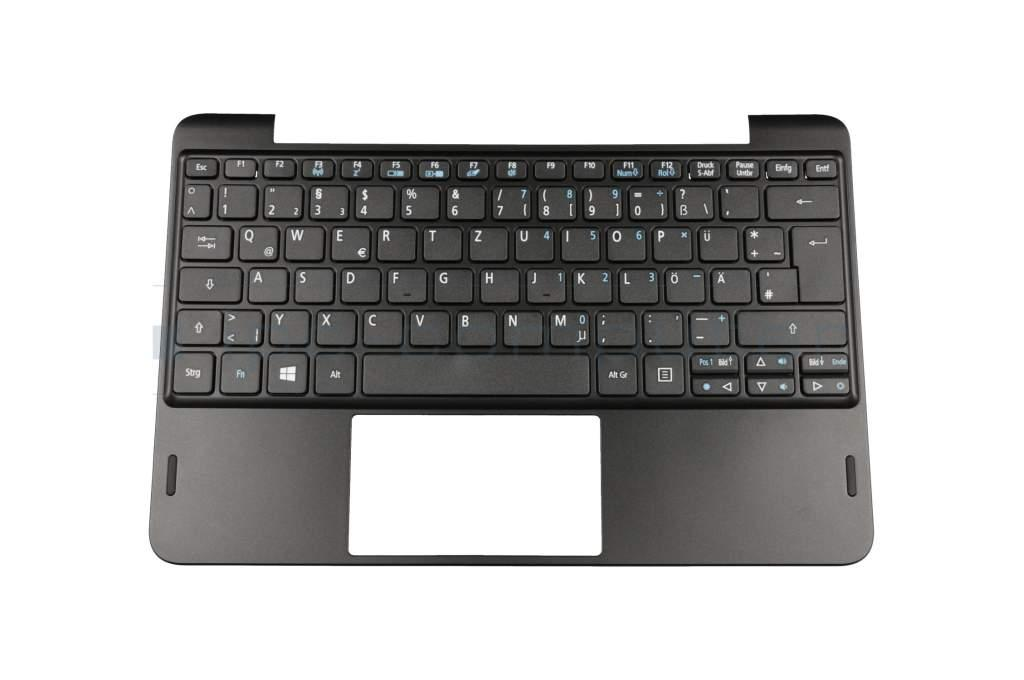0: (627, 186, 668, 220)
1: (215, 184, 257, 219)
2: (262, 184, 303, 219)
3: (307, 184, 349, 220)
4: (354, 184, 394, 221)
5: (399, 185, 440, 221)
6: (445, 185, 485, 220)
7: (490, 185, 531, 220)
8: (536, 186, 576, 220)
9: (581, 185, 622, 220)
a: (246, 266, 288, 304)
accent: (717, 184, 760, 220)
ae: (708, 267, 752, 304)
alt-left: (314, 351, 356, 395)
altgr-right: (596, 352, 638, 396)
b: (455, 310, 496, 347)
c: (361, 309, 403, 346)
caret: (180, 183, 212, 220)
comma: (594, 310, 637, 348)
d: (339, 266, 380, 304)
del: (763, 185, 840, 219)
e: (330, 225, 371, 262)
enter: (792, 226, 844, 303)
f: (386, 267, 427, 304)
g: (432, 267, 473, 303)
h: (478, 267, 520, 304)
hash: (756, 266, 798, 304)
i: (559, 226, 601, 262)
j: (524, 267, 566, 304)
k: (571, 267, 612, 304)
keyboard: (164, 150, 860, 408)
l: (617, 267, 659, 304)
less: (223, 308, 263, 346)
m: (548, 309, 591, 349)
minus: (687, 309, 730, 347)
n: (501, 310, 543, 348)
o: (605, 226, 647, 262)
oe: (663, 267, 705, 304)
p: (651, 225, 693, 262)
plus: (742, 225, 784, 262)
point: (641, 310, 683, 347)
q: (237, 224, 279, 261)
r: (375, 225, 416, 261)
s: (293, 266, 334, 304)
shift-left: (175, 308, 221, 346)
shift-lock: (176, 265, 243, 303)
shift-right: (734, 308, 847, 346)
space: (362, 353, 590, 395)
ss: (672, 186, 713, 220)
strg-left: (172, 350, 214, 395)
t: (422, 226, 462, 261)
tab: (179, 224, 235, 261)
u: (513, 226, 555, 262)
ue: (695, 225, 739, 262)
v: (408, 310, 449, 346)
w: (283, 224, 325, 261)
x: (315, 309, 357, 346)
y: (268, 309, 310, 346)
z: (467, 226, 508, 261)
